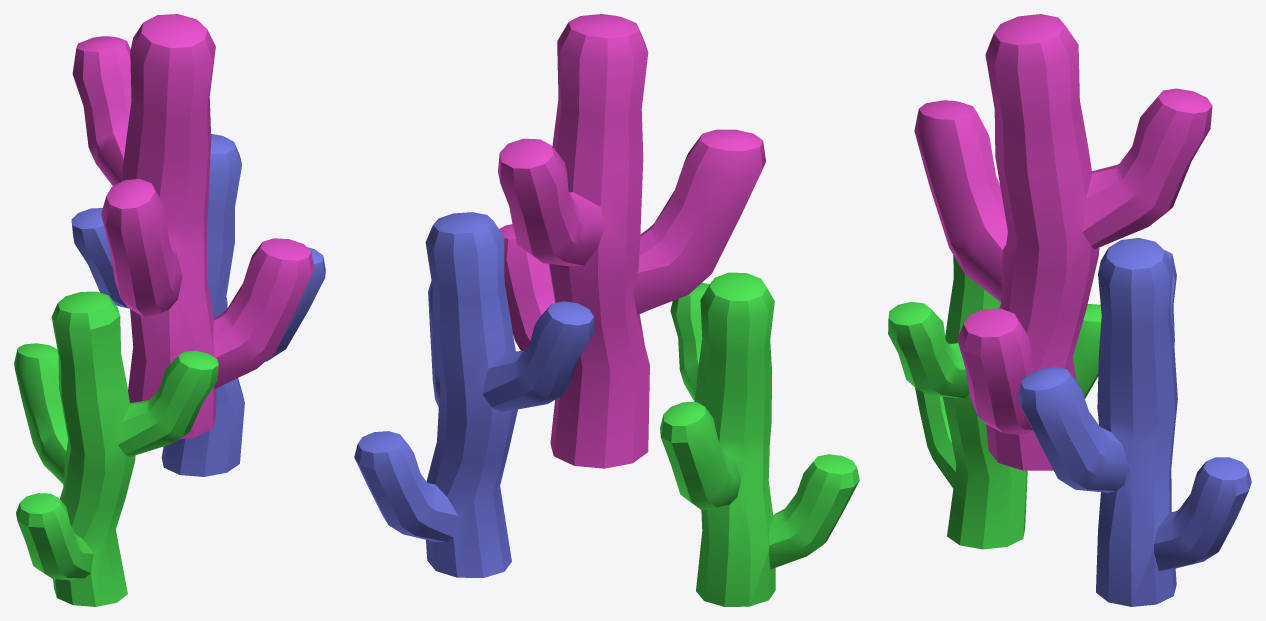
The model's file is Coral Group.fbx.
The picture shows the model from 3 angles, left to right: view 1: azimuth 30°, elevation 25°; view 2: azimuth 150°, elevation 25°; view 3: azimuth 270°, elevation 25°; orthographic projection. The views are drawn at different scales.
Parts seen in each view (by area): view 1: Cylinder.001; view 2: Cylinder.001; view 3: Cylinder.001.
Boxes of the visible parts, x1=… form: Cylinder.001: x1=14, y1=14, x2=325, y2=606; Cylinder.001: x1=354, y1=14, x2=859, y2=606; Cylinder.001: x1=888, y1=14, x2=1251, y2=606.
Bounding box in the file's own units: 862 × 1237 × 723.
